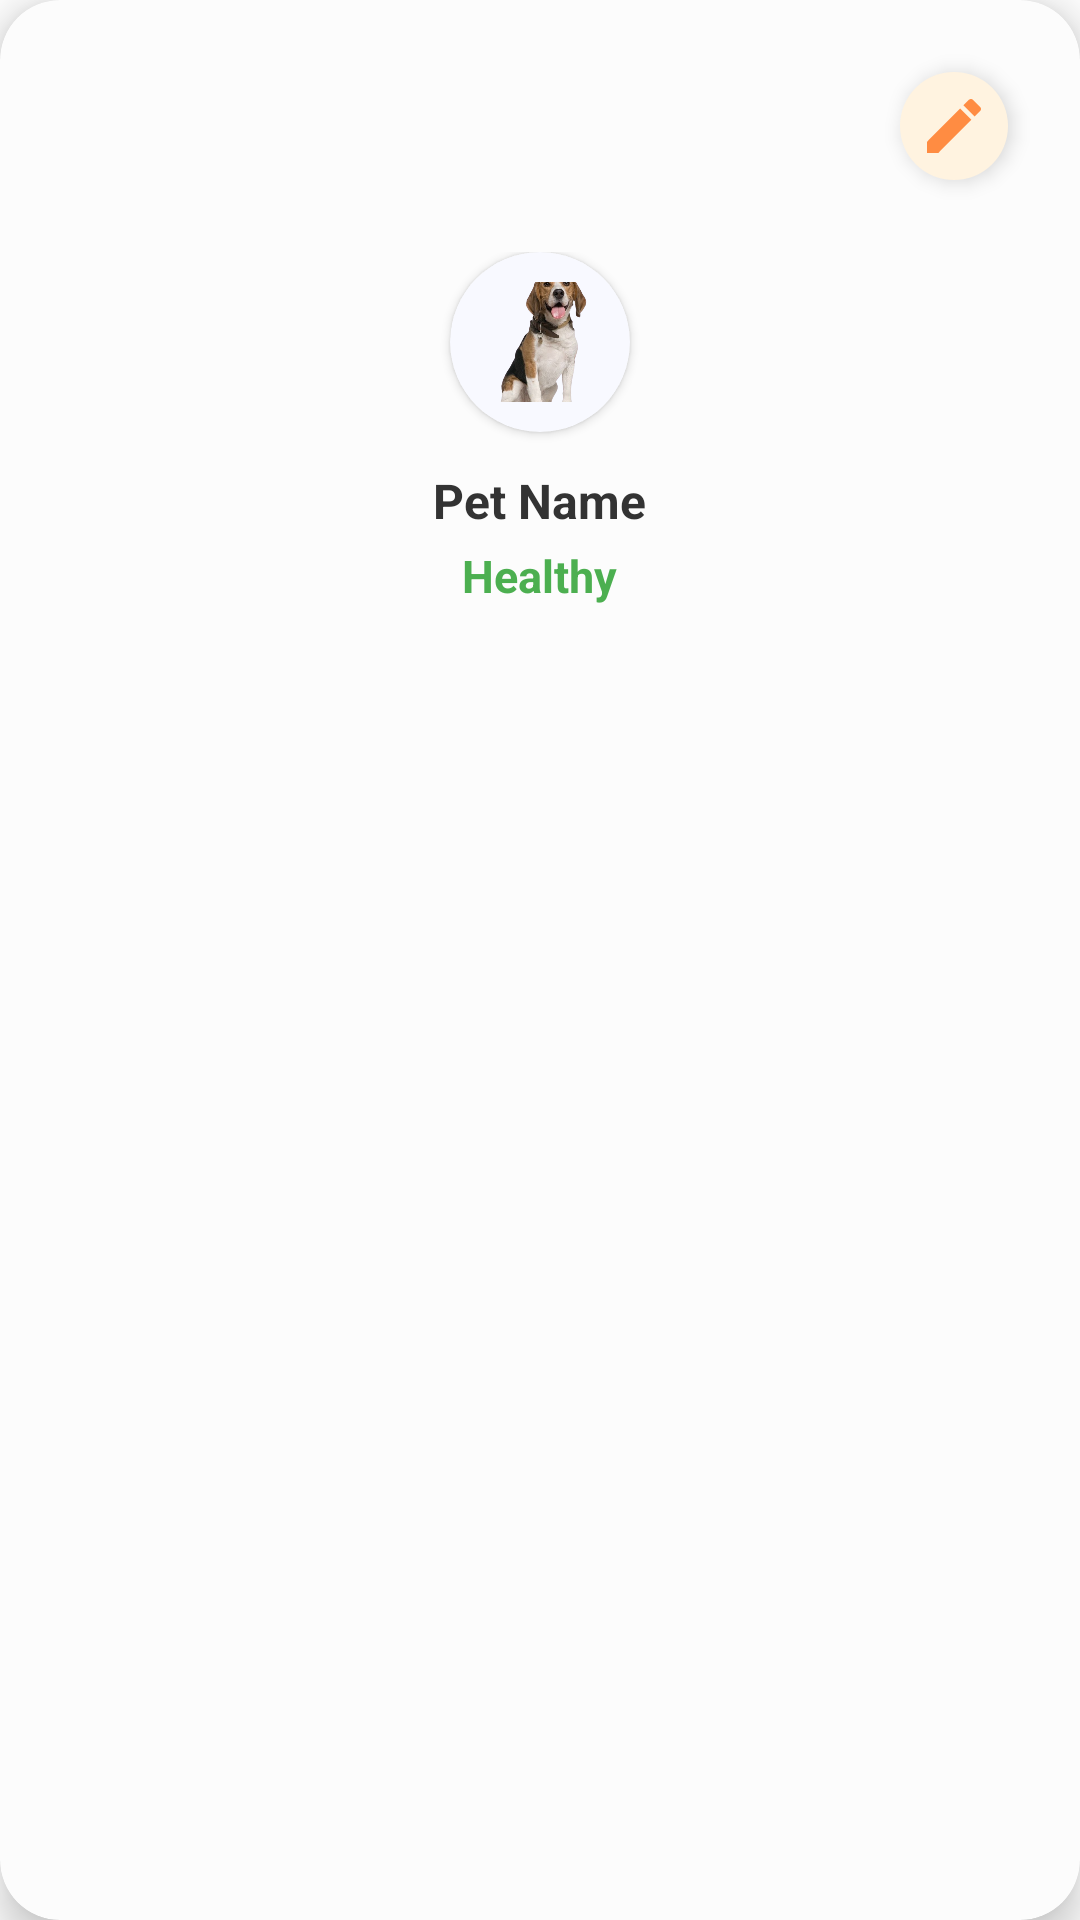

Named icons in this screenshot (1080px x 1920px) and their centers, (x=x, y=y):
Edit Pet: (x=954, y=126)
pet dog: (x=543, y=342)
